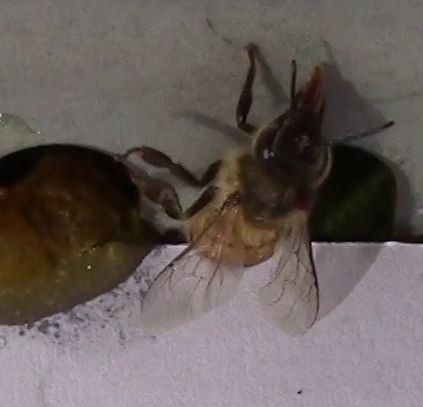Varroa destructor: (296, 188, 314, 209)
